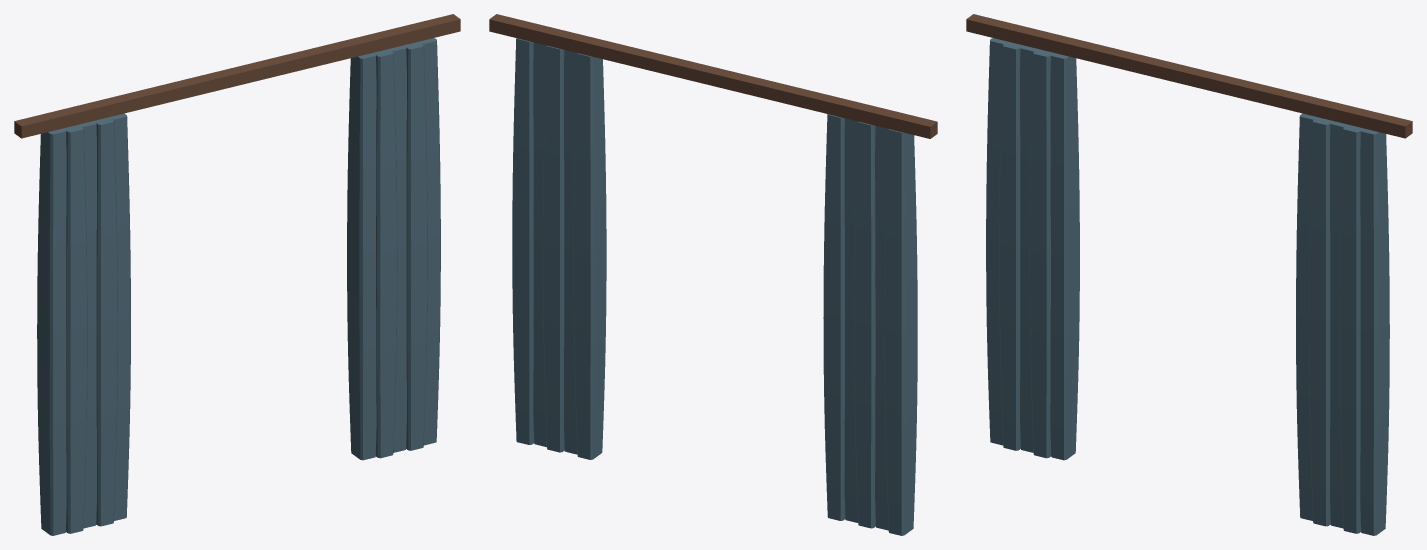
File: curtain_pair.glb
3 renders of one model, left to right at view 1: azimuth 30°, elevation 25°; view 2: azimuth 150°, elevation 25°; view 3: azimuth 330°, elevation 25°, orthographic.
Parts seen in each view (by area): view 1: Curtain fold.004, Curtain fold.005, Curtain rod, Curtain fold.003, Curtain fold.008, Curtain fold.001, Curtain fold.006, Curtain fold.009, Curtain fold, Curtain fold.007, Curtain fold.002; view 2: Curtain fold.005, Curtain fold.004, Curtain rod, Curtain fold.002, Curtain fold.009, Curtain fold.007, Curtain fold, Curtain fold.008, Curtain fold.003, Curtain fold.001, Curtain fold.006; view 3: Curtain fold.009, Curtain fold, Curtain rod, Curtain fold.008, Curtain fold.003, Curtain fold.006, Curtain fold.001, Curtain fold.004, Curtain fold.005, Curtain fold.002, Curtain fold.007.
Boxes of the visible parts, x1,y1,x2,y2 form: Curtain fold.004: (37, 128, 66, 535); Curtain fold.005: (347, 53, 376, 460); Curtain rod: (14, 14, 460, 138); Curtain fold.003: (63, 125, 87, 533); Curtain fold.008: (404, 41, 427, 450); Curtain fold.001: (94, 117, 117, 526); Curtain fold.006: (373, 49, 397, 458); Curtain fold.009: (419, 38, 440, 445); Curtain fold: (109, 113, 130, 520); Curtain fold.007: (389, 45, 406, 452); Curtain fold.002: (78, 121, 96, 528); Curtain fold.005: (573, 53, 606, 459); Curtain fold.004: (884, 129, 917, 535); Curtain rod: (489, 14, 937, 138); Curtain fold.002: (854, 121, 875, 528); Curtain fold.009: (512, 38, 533, 444); Curtain fold.007: (542, 45, 564, 452); Curtain fold: (823, 114, 845, 520); Curtain fold.008: (533, 42, 546, 447); Curtain fold.003: (875, 126, 888, 530); Curtain fold.001: (844, 118, 858, 522); Curtain fold.006: (563, 50, 577, 454); Curtain fold.009: (1360, 128, 1389, 535); Curtain fold: (1050, 53, 1079, 460); Curtain rod: (966, 14, 1412, 138); Curtain fold.008: (1339, 125, 1363, 533); Curtain fold.003: (999, 41, 1022, 450); Curtain fold.006: (1309, 117, 1332, 526); Curtain fold.001: (1029, 49, 1053, 458); Curtain fold.004: (986, 38, 1007, 445); Curtain fold.005: (1296, 113, 1317, 520); Curtain fold.002: (1020, 45, 1037, 452); Curtain fold.007: (1330, 121, 1348, 528).
Bounding box in the file's own units: 1.82 × 1.64 × 0.1268.
